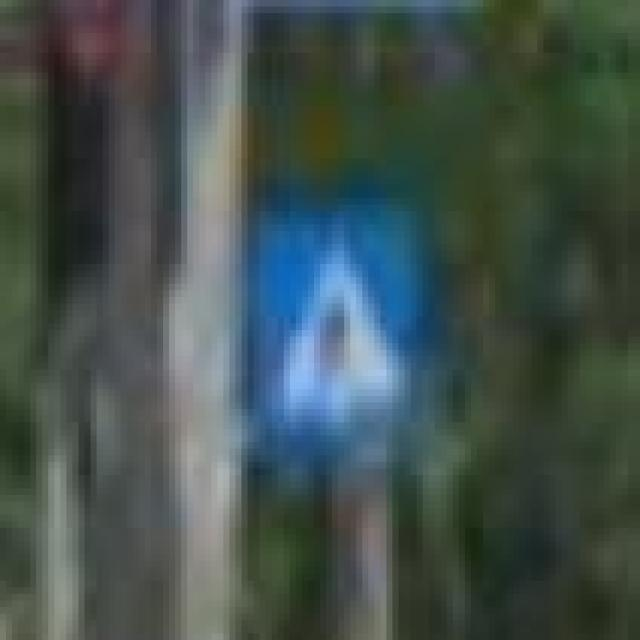traffic sign: (248, 211, 423, 468)
